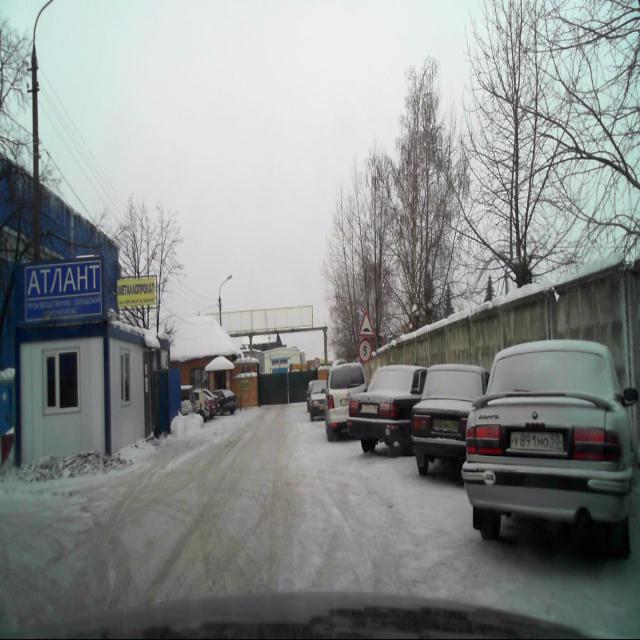road sign: (359, 312, 375, 340)
